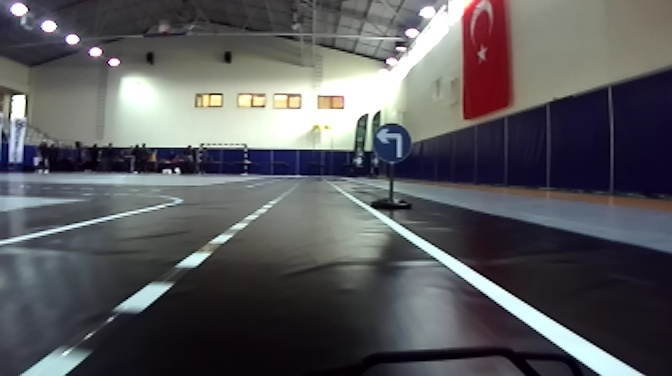sola_donus: (374, 122, 417, 162)
